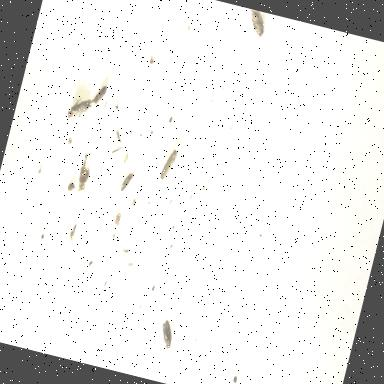pbw: (61, 94, 92, 130), (243, 9, 268, 40), (158, 147, 178, 181), (156, 320, 175, 350)
